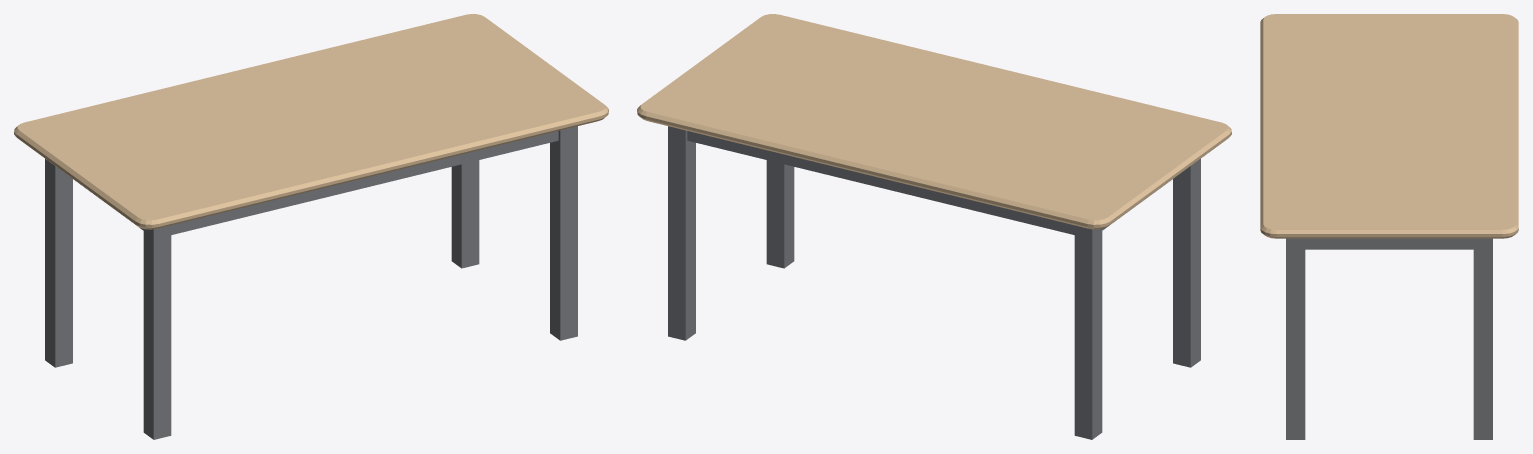
Rendered from table.glb.
3 views of the same model, side by side, from view 1: azimuth 30°, elevation 25°; view 2: azimuth 150°, elevation 25°; view 3: azimuth 270°, elevation 25° (orthographic). The views are drawn at different scales.
Visible parts, largest first — view 1: table; view 2: table; view 3: table.
Part boxes in pixels (left/top/right/bottom): table: left=14, top=14, right=608, bottom=439; table: left=637, top=14, right=1231, bottom=439; table: left=1260, top=14, right=1518, bottom=439.
Size of the model in its own units: 1.6 by 0.75 by 0.8.
